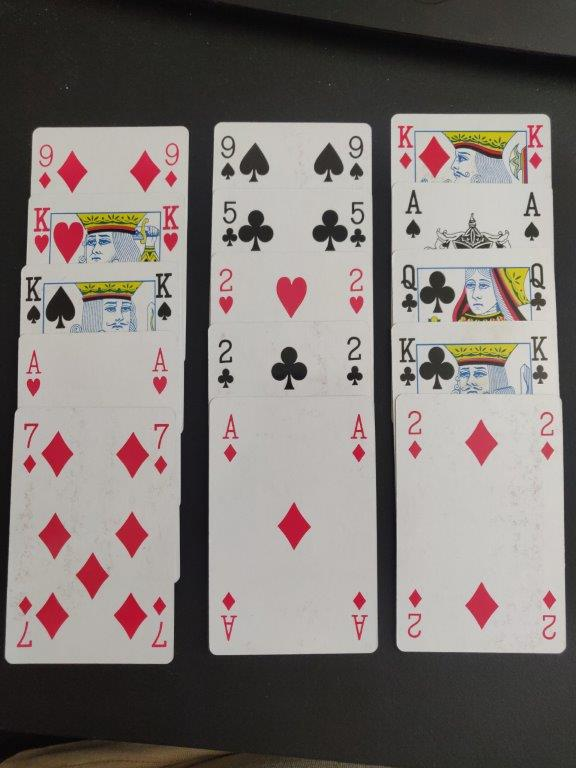2C: (212, 334, 238, 395), (342, 332, 366, 391)
2D: (402, 407, 428, 463), (535, 406, 559, 465)
2H: (212, 264, 240, 318), (345, 265, 370, 322)
5C: (346, 196, 370, 252), (217, 196, 240, 253)
7D: (149, 418, 174, 478), (17, 418, 41, 478)
9D: (34, 141, 56, 194), (158, 138, 180, 190)
9S: (217, 131, 237, 186), (345, 131, 364, 183)
AD: (217, 410, 243, 467), (346, 410, 370, 467)
AH: (147, 343, 172, 397), (21, 344, 45, 399)
AS: (399, 184, 425, 242), (521, 187, 543, 246)
KC: (526, 331, 553, 388), (393, 333, 419, 391)
KD: (392, 121, 417, 173), (524, 120, 547, 173)
KH: (29, 201, 52, 257), (161, 200, 182, 257)
KS: (152, 267, 176, 326), (22, 273, 45, 326)
QC: (395, 260, 421, 318), (525, 260, 551, 318)
